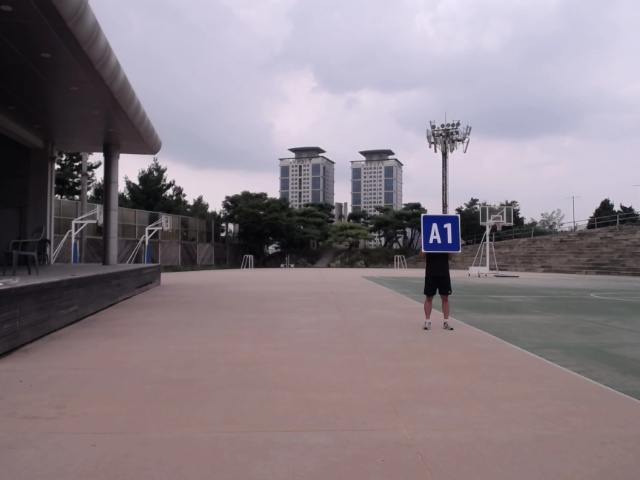delivery_a1: (422, 214, 462, 252)
